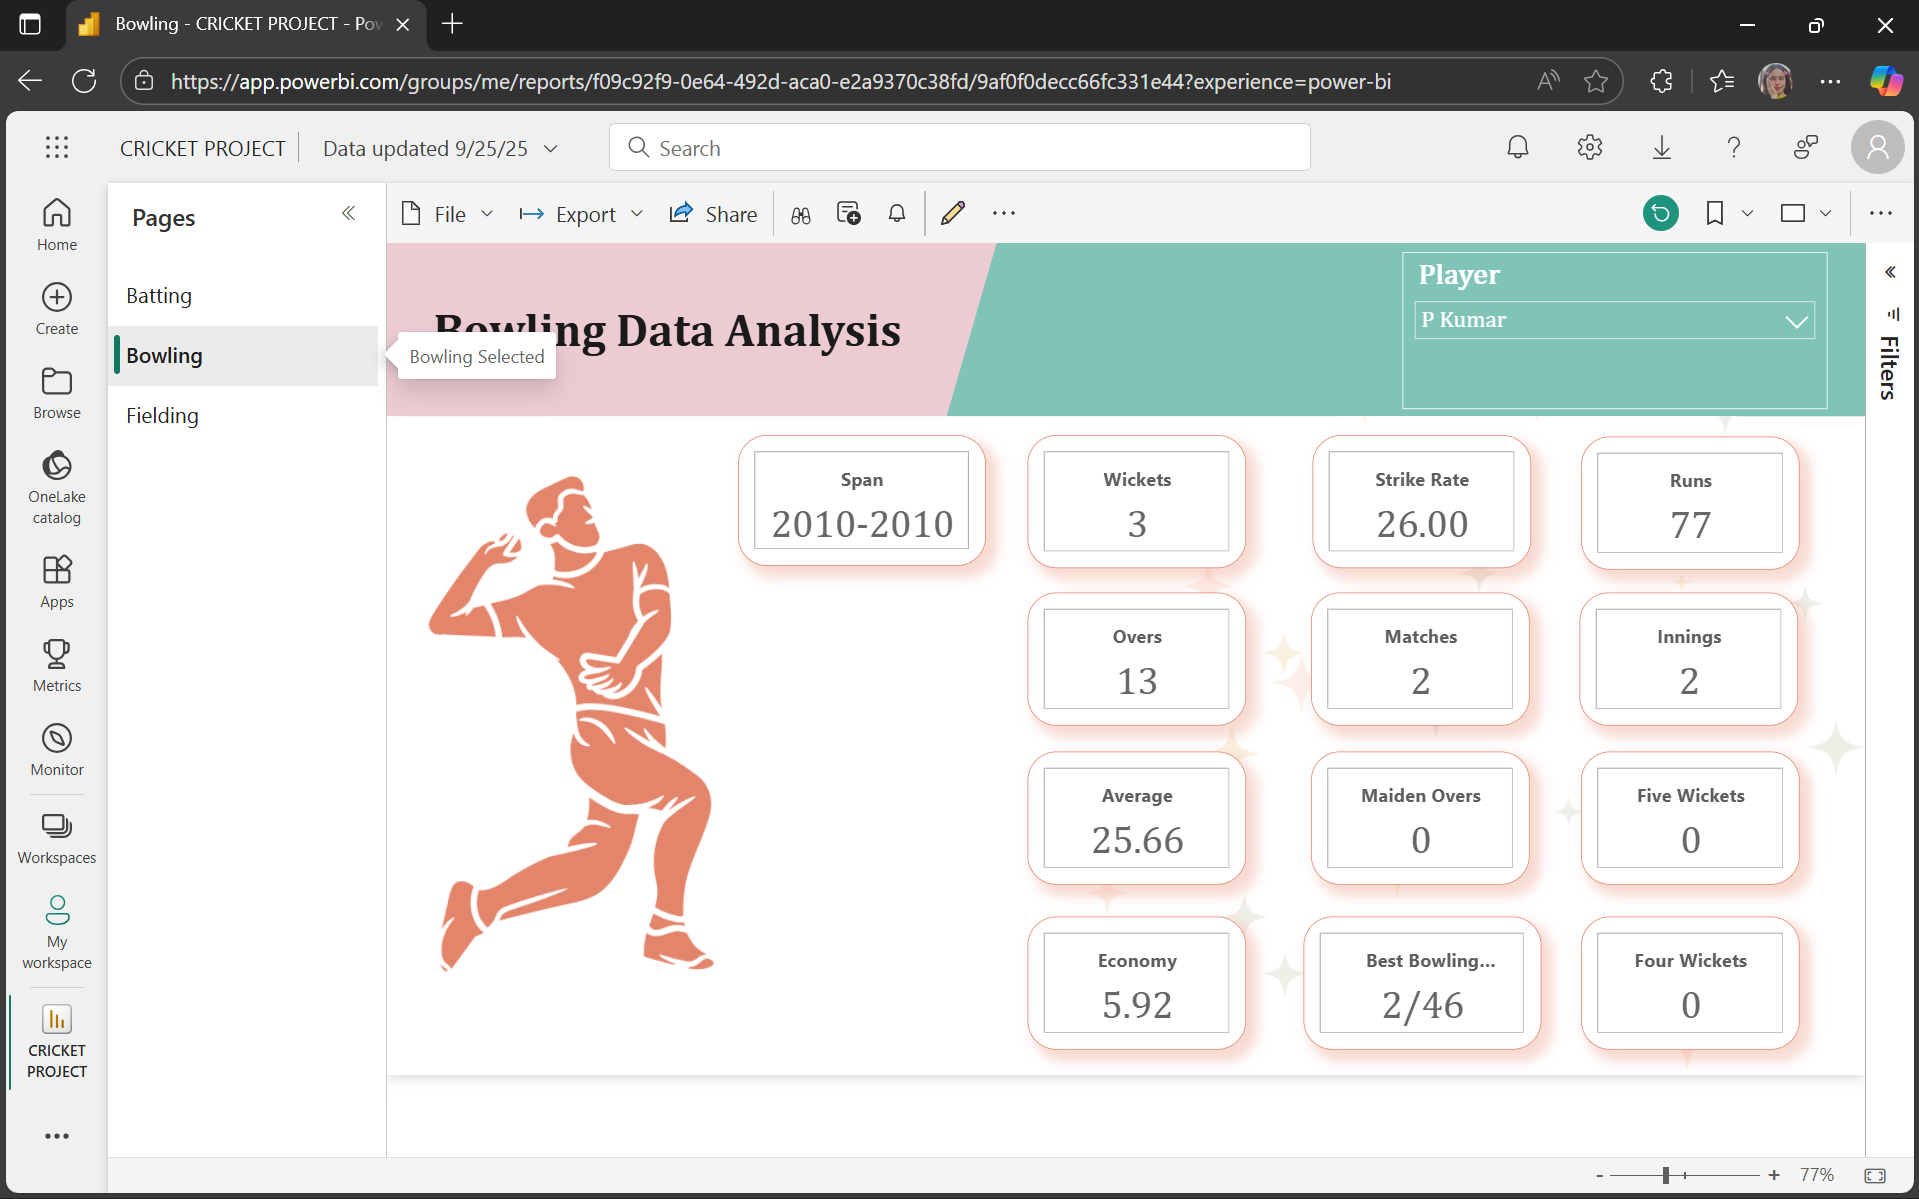

Layout of this report page (visuals, bound fields, positions):
{"tool":"powerbi","page":{"name":"Bowling","canvas":[1280,720],"ordinal":1},"visuals":[{"type":"shape","box":[0,0,822.2,149.9],"z":0},{"type":"shape","box":[484.5,0,795,149.9],"z":1000},{"type":"shape","box":[1168.2,0,111.8,150],"z":2000},{"type":"cardVisual","fields":{"Data":["Sum(Bowling.Wkts)"]},"box":[554.2,166.6,189.3,115.1],"z":3000},{"type":"slicer","fields":{"Values":["Bowling.Player"]},"box":[879.8,7.6,368,136.3],"z":4000},{"type":"cardVisual","fields":{"Data":["Min(Bowling.Span)"]},"box":[304.1,166.5,214.5,113.6],"z":5000},{"type":"cardVisual","fields":{"Data":["Sum(Bowling.SR)"]},"box":[801,166.6,189.3,115.1],"z":6000},{"type":"cardVisual","fields":{"Data":["Sum(Bowling.Runs)"]},"box":[1033.7,167.3,189.3,115.1],"z":7000},{"type":"cardVisual","fields":{"Data":["Sum(Bowling.Overs)"]},"box":[554.2,302.8,189.3,115.1],"z":8000},{"type":"cardVisual","fields":{"Data":["Sum(Bowling.Mdns)"]},"box":[799.5,440.6,189.3,115.1],"z":9000},{"type":"cardVisual","fields":{"Data":["Sum(Bowling.Mat)"]},"box":[799.5,302.8,189.3,115.1],"z":10000},{"type":"cardVisual","fields":{"Data":["Sum(Bowling.Inns)"]},"box":[1032.7,302.8,189.3,115.1],"z":11000},{"type":"cardVisual","fields":{"Data":["Sum(Bowling.Econ)"]},"box":[554.2,583,189.3,115.1],"z":12000},{"type":"cardVisual","fields":{"Data":["Min(Bowling.BBI)"]},"box":[793.4,583,205.9,115.1],"z":13000},{"type":"cardVisual","fields":{"Data":["Sum(Bowling.Ave)"]},"box":[554.2,440.6,189.3,115.1],"z":14000},{"type":"cardVisual","fields":{"Data":["Sum(Bowling.5)"]},"box":[1034.2,440.6,189.3,115.1],"z":15000},{"type":"cardVisual","fields":{"Data":["Sum(Bowling.4)"]},"box":[1034.2,583,189.3,115.1],"z":16000}]}

Visuals, with their boxes on the page's 1280x720 design canvas (x1, y1, x2, y2). These are canvas units, not pixel positions in the 1919x1199 screenshot, which may show the page scaled, cropped or inside an application window:
shape: x1=0 y1=0 x2=822 y2=150
shape: x1=484 y1=0 x2=1280 y2=150
shape: x1=1168 y1=0 x2=1280 y2=150
cardVisual - Sum(Bowling.Wkts): x1=554 y1=167 x2=744 y2=282
slicer - Bowling.Player: x1=880 y1=8 x2=1248 y2=144
cardVisual - Min(Bowling.Span): x1=304 y1=166 x2=519 y2=280
cardVisual - Sum(Bowling.SR): x1=801 y1=167 x2=990 y2=282
cardVisual - Sum(Bowling.Runs): x1=1034 y1=167 x2=1223 y2=282
cardVisual - Sum(Bowling.Overs): x1=554 y1=303 x2=744 y2=418
cardVisual - Sum(Bowling.Mdns): x1=800 y1=441 x2=989 y2=556
cardVisual - Sum(Bowling.Mat): x1=800 y1=303 x2=989 y2=418
cardVisual - Sum(Bowling.Inns): x1=1033 y1=303 x2=1222 y2=418
cardVisual - Sum(Bowling.Econ): x1=554 y1=583 x2=744 y2=698
cardVisual - Min(Bowling.BBI): x1=793 y1=583 x2=999 y2=698
cardVisual - Sum(Bowling.Ave): x1=554 y1=441 x2=744 y2=556
cardVisual - Sum(Bowling.5): x1=1034 y1=441 x2=1224 y2=556
cardVisual - Sum(Bowling.4): x1=1034 y1=583 x2=1224 y2=698
